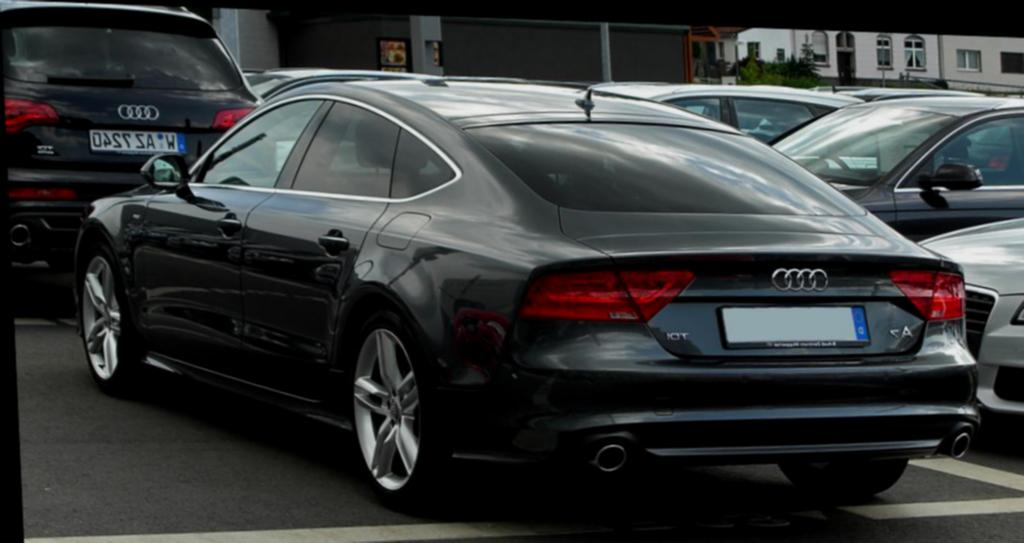License_Plate: (715, 303, 872, 355), (91, 127, 188, 153)
